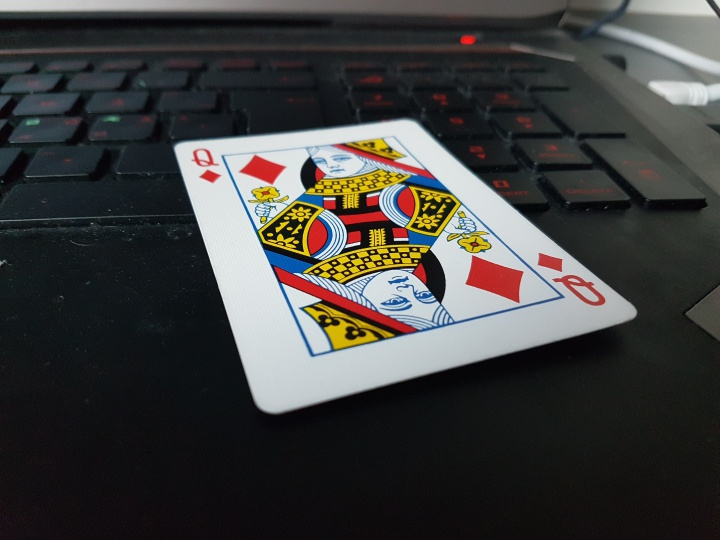queen: (171, 118, 639, 416)
